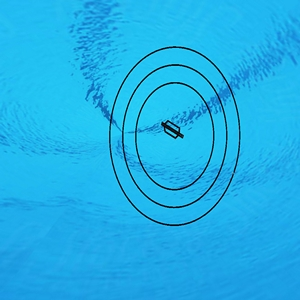circle: (104, 37, 241, 231)
submarine: (156, 115, 181, 140)
